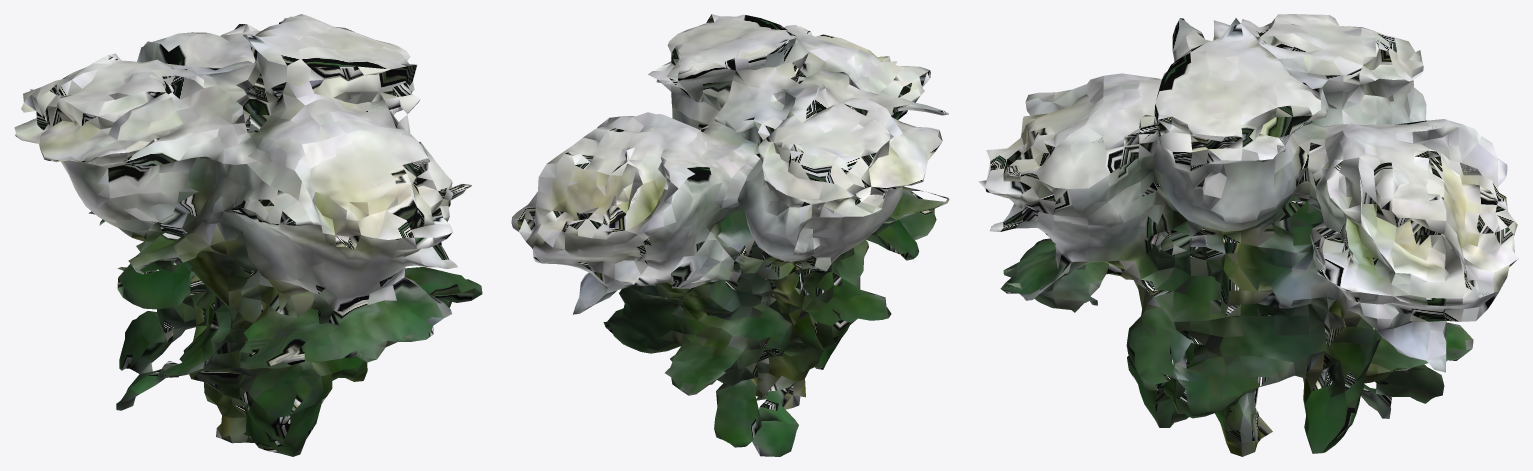
The picture shows the model from 3 angles, left to right: view 1: azimuth 30°, elevation 25°; view 2: azimuth 150°, elevation 25°; view 3: azimuth 270°, elevation 25°; orthographic projection. The views are drawn at different scales.
Visible parts, largest first — view 1: 16996e79; view 2: 16996e79; view 3: 16996e79.
Boxes of the visible parts, left/top/right/bottom form: 16996e79: left=14, top=14, right=482, bottom=456; 16996e79: left=511, top=14, right=949, bottom=456; 16996e79: left=978, top=14, right=1518, bottom=456.
Bounding box in the file's own units: 0.0729 × 0.0734 × 0.0859.
Materials: 1 (1 with a texture image).
